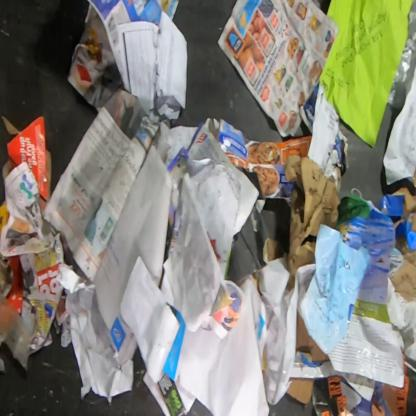cardboard: (217, 118, 312, 208), (283, 156, 342, 293), (2, 114, 52, 202), (378, 186, 415, 252), (287, 377, 314, 404)
soft_plastic: (387, 0, 415, 111), (0, 292, 36, 372)
